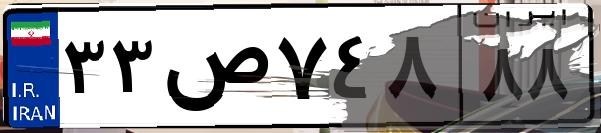3: (57, 26, 110, 100), (110, 28, 158, 98)
4: (330, 28, 385, 110)
7: (270, 28, 330, 110)
8: (385, 28, 445, 110), (475, 38, 525, 113), (525, 38, 570, 115)
ص: (158, 20, 270, 120)
